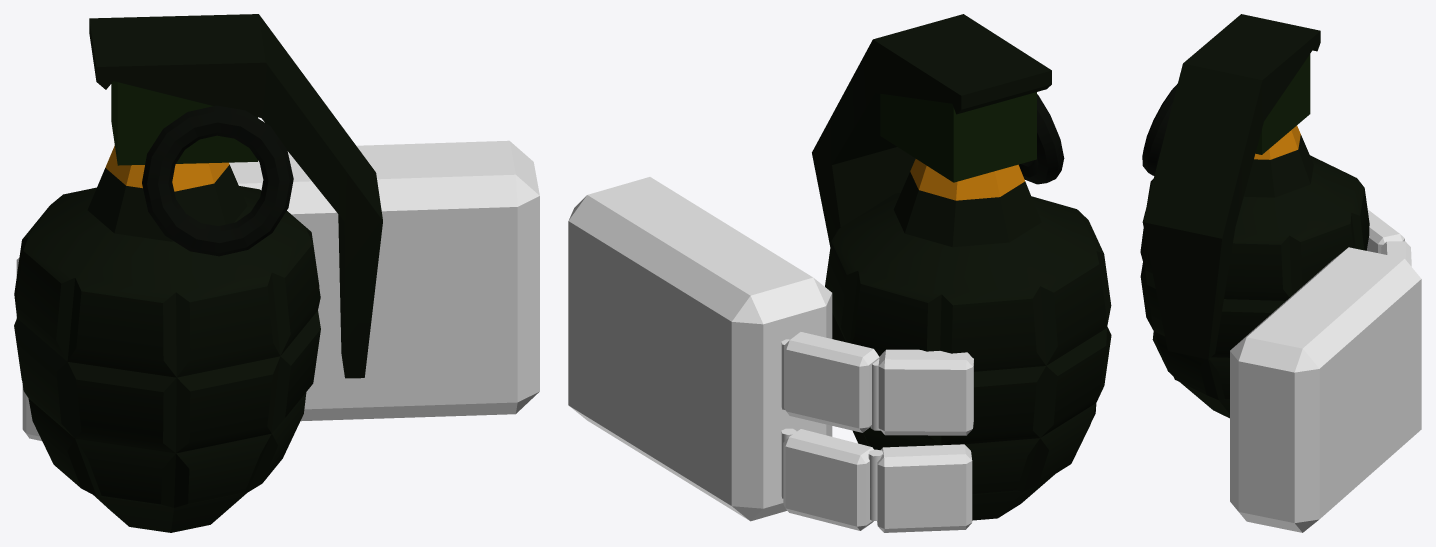
Rendered from grenade with hand.FBX.
3 views of the same model, side by side, from view 1: azimuth 30°, elevation 25°; view 2: azimuth 150°, elevation 25°; view 3: azimuth 270°, elevation 25° (orthographic). The views are drawn at different scales.
Parts seen in each view (by area): view 1: Grenade, Box016; view 2: Grenade, Box016, Box020, Box018, Box017, Box019; view 3: Grenade, Box016, Box018, Box017.
Boxes of the visible parts, left/top/right/bottom form: Grenade: left=14, top=14, right=382, bottom=532; Box016: left=229, top=140, right=539, bottom=421; Grenade: left=812, top=14, right=1111, bottom=520; Box016: left=568, top=177, right=832, bottom=521; Box020: left=868, top=444, right=972, bottom=532; Box018: left=870, top=349, right=973, bottom=435; Box017: left=781, top=332, right=879, bottom=432; Box019: left=781, top=428, right=874, bottom=530; Grenade: left=1140, top=14, right=1369, bottom=418; Box016: left=1230, top=247, right=1421, bottom=532; Box018: left=1366, top=209, right=1404, bottom=253; Box017: left=1381, top=241, right=1411, bottom=266.
Bounding box in the file's own units: 0.403 × 0.3507 × 0.2446.
